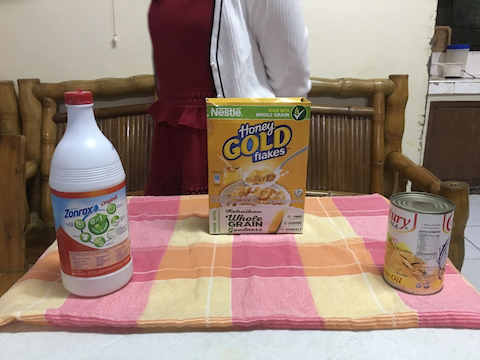bottle: (45, 87, 139, 296)
box: (203, 93, 314, 241)
can: (380, 190, 456, 301)
